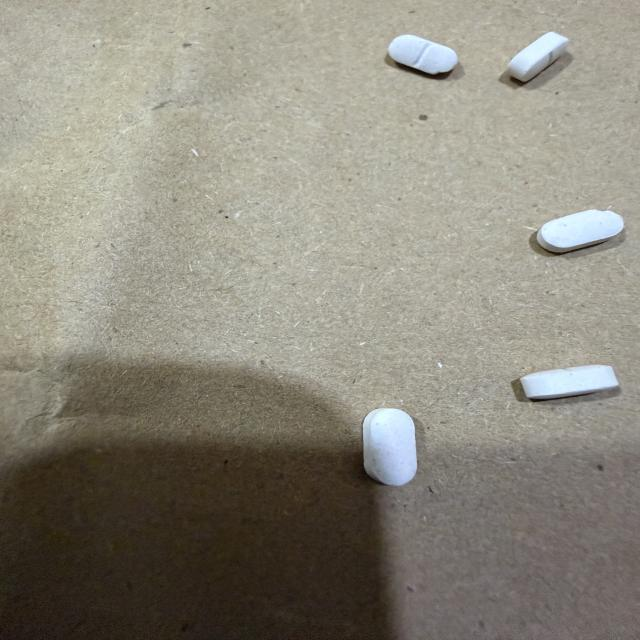pill: (363, 409, 416, 485), (537, 210, 623, 252), (520, 365, 618, 399), (507, 32, 568, 81), (389, 35, 457, 74)
